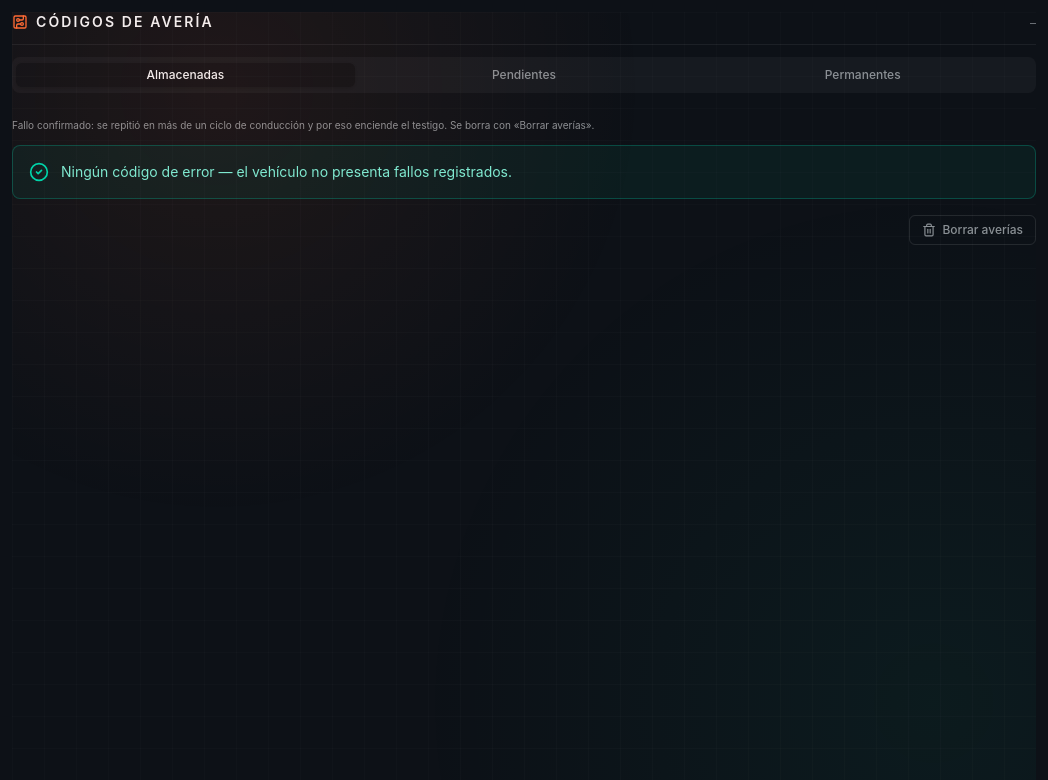
Test: DtcPanel › should show permanent codes when they exist
What coordinates should you click on to do the following:
click the tab "Permanentes"
I would click on:
 (863, 75)
Its box is left=693, top=63, right=1032, bottom=87.
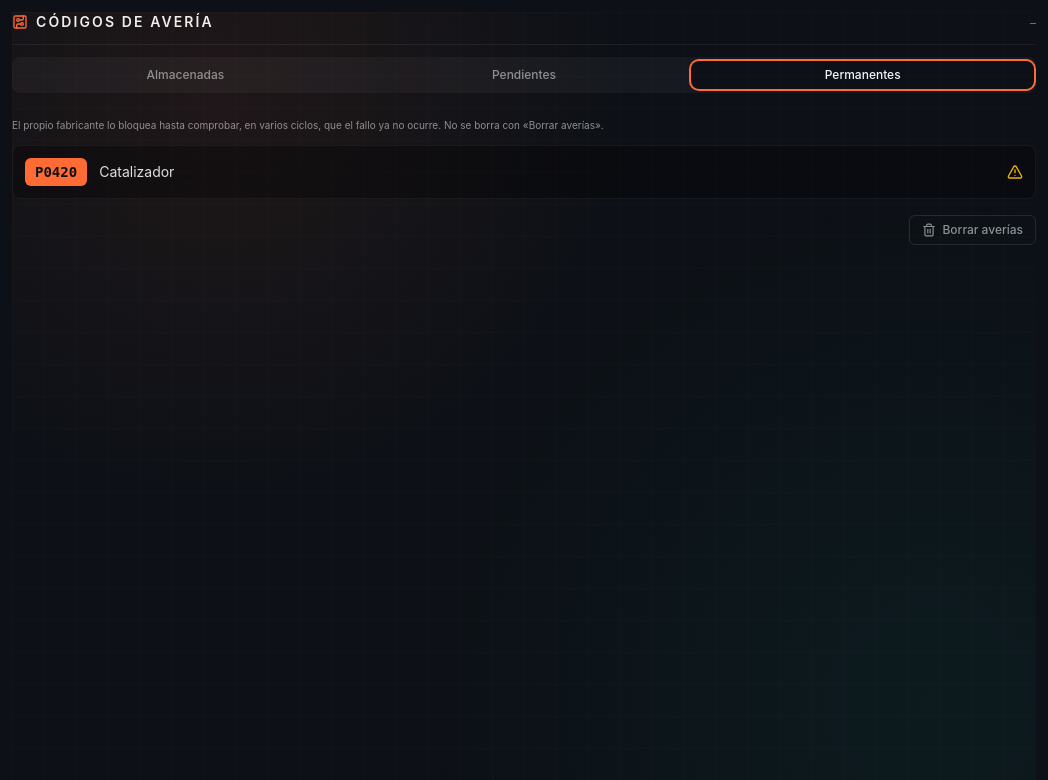
expect the text "P0420" is shown: met, box left=25, top=158, right=87, bottom=186
expect the text "Catalizador" is shown: met, box left=99, top=163, right=174, bottom=180
